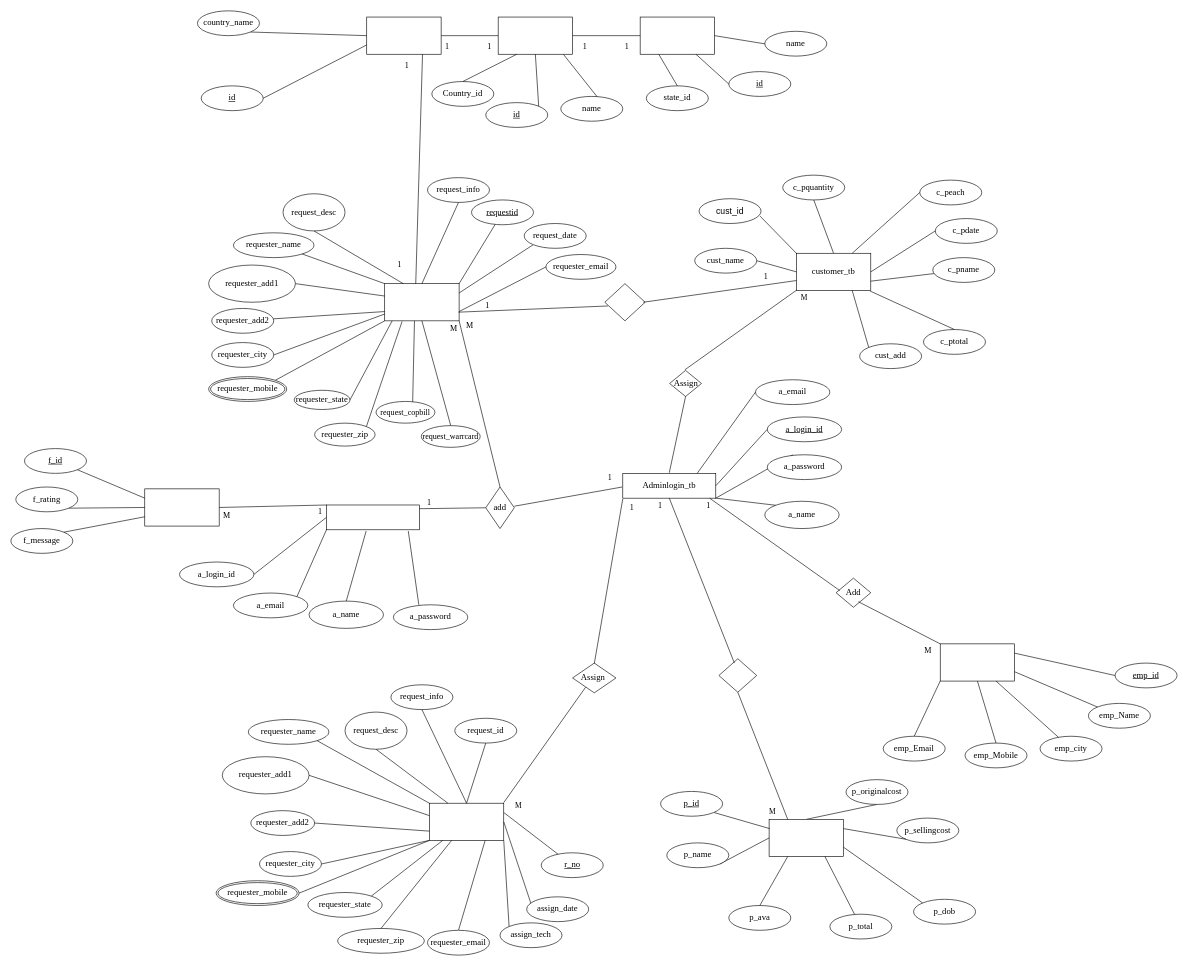
This 1188x966 diagram has some shape labels left out. The centre of each missing label's shape, as x and y in pixels:
"Access" goes at [624,302].
"assets_tb" goes at [806,838].
"assignwork_tb" goes at [466,821].
"city" goes at [677,35].
"Country" goes at [403,35].
"Feedback" goes at [181,507].
"Includes" goes at [737,675].
"requesterlogin_tb" goes at [372,517].
"States" goes at [535,35].
"submitrequest_tb" goes at [421,302].
"technician_tb" goes at [977,662].
